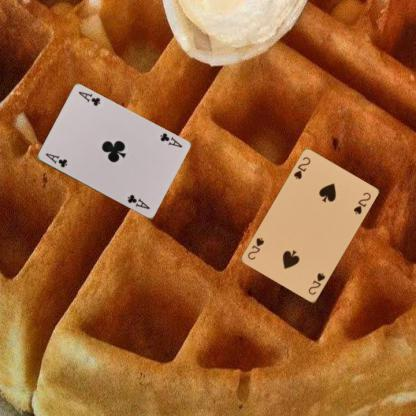2s: (292, 154, 312, 181), (306, 270, 326, 296)
Ac: (157, 131, 183, 149), (43, 151, 68, 169)
